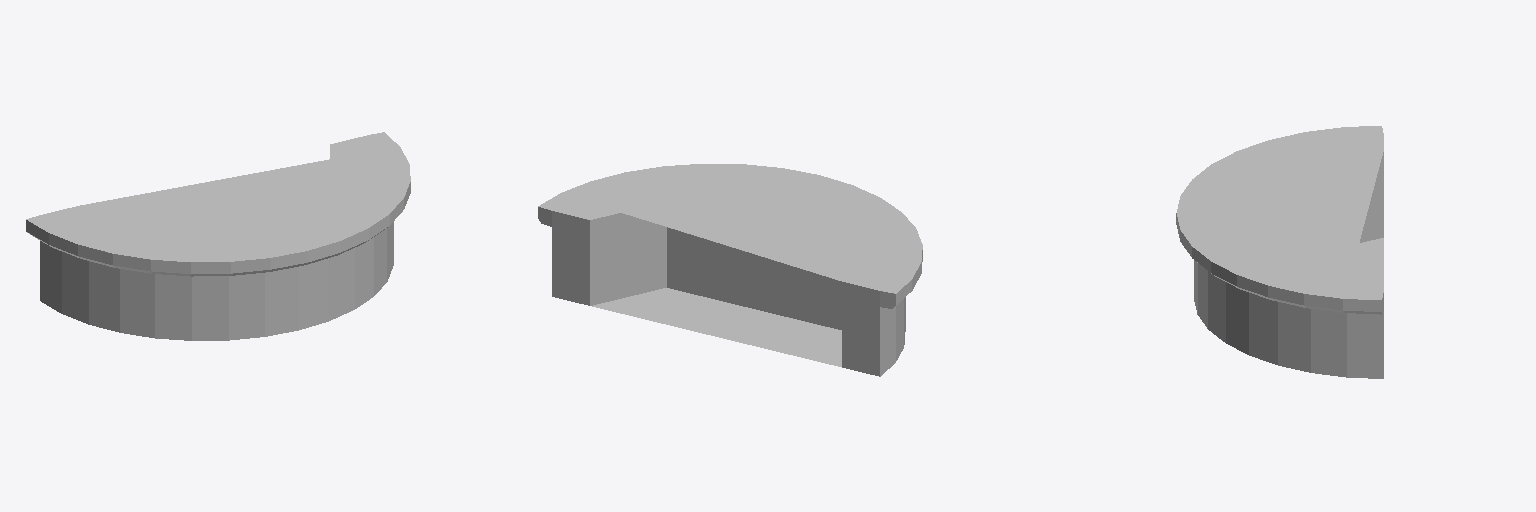
Rendered from Table.obj.
3 views of the same model, side by side, from view 1: azimuth 30°, elevation 25°; view 2: azimuth 150°, elevation 25°; view 3: azimuth 270°, elevation 25° (orthographic).
Visible parts, largest first — view 1: Cylinder; view 2: Cylinder; view 3: Cylinder.
Boxes of the visible parts, <box> form: Cylinder: <box>26,132,410,340</box>; Cylinder: <box>538,164,922,376</box>; Cylinder: <box>1176,126,1383,378</box>.
Size of the model in its own units: 2.18 by 0.5 by 1.09.